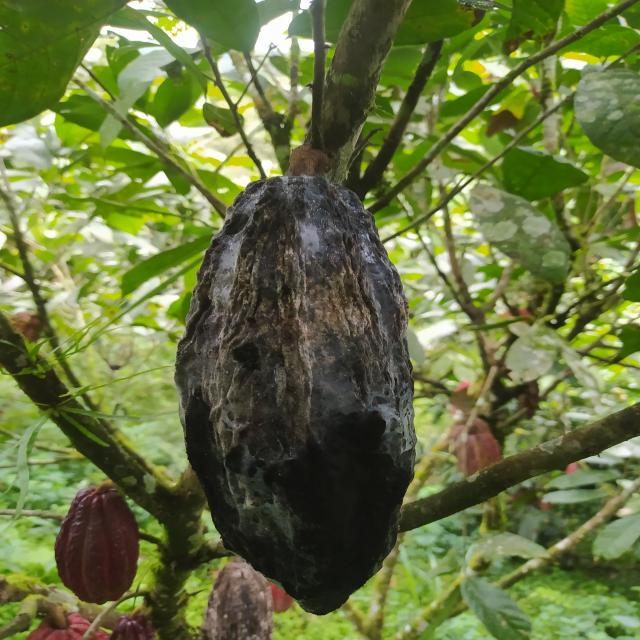Fitoftora: (176, 176, 417, 616), (205, 562, 272, 640)
Sana: (52, 485, 142, 605)
